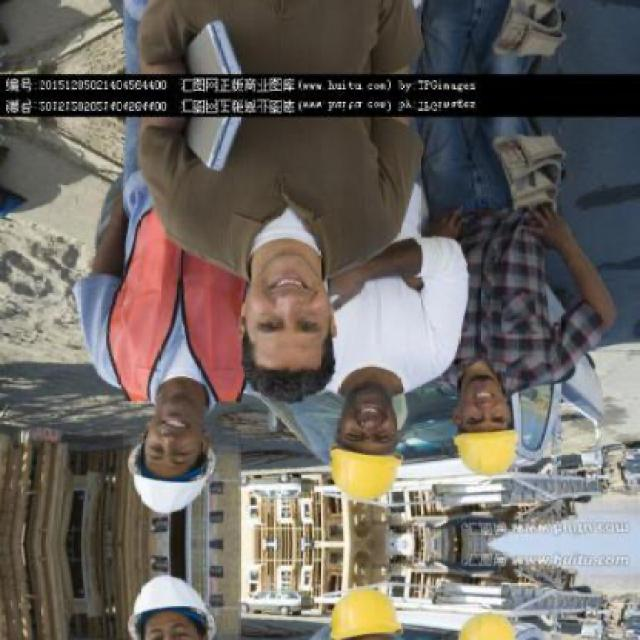con casco: (299, 434, 424, 522), (437, 399, 536, 493), (122, 432, 241, 510)
sin casco: (208, 303, 354, 396)
